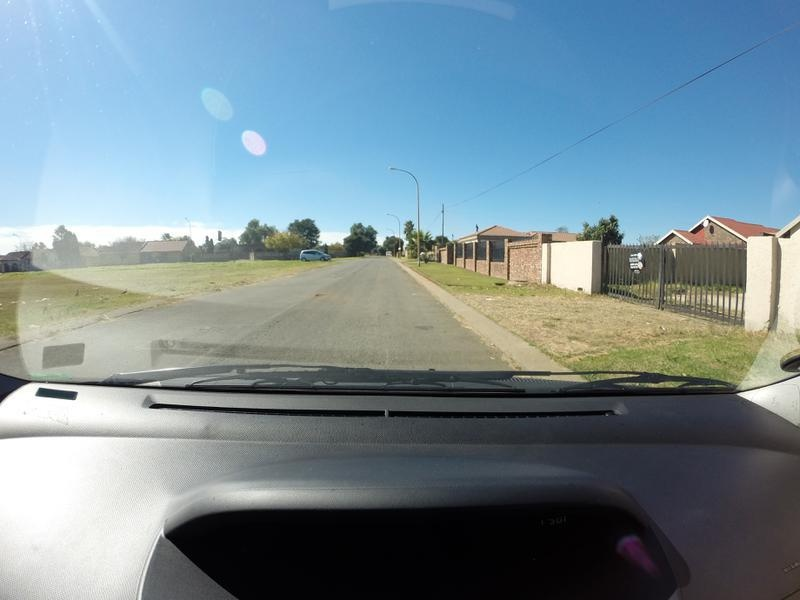pothole: (317, 289, 320, 300)
